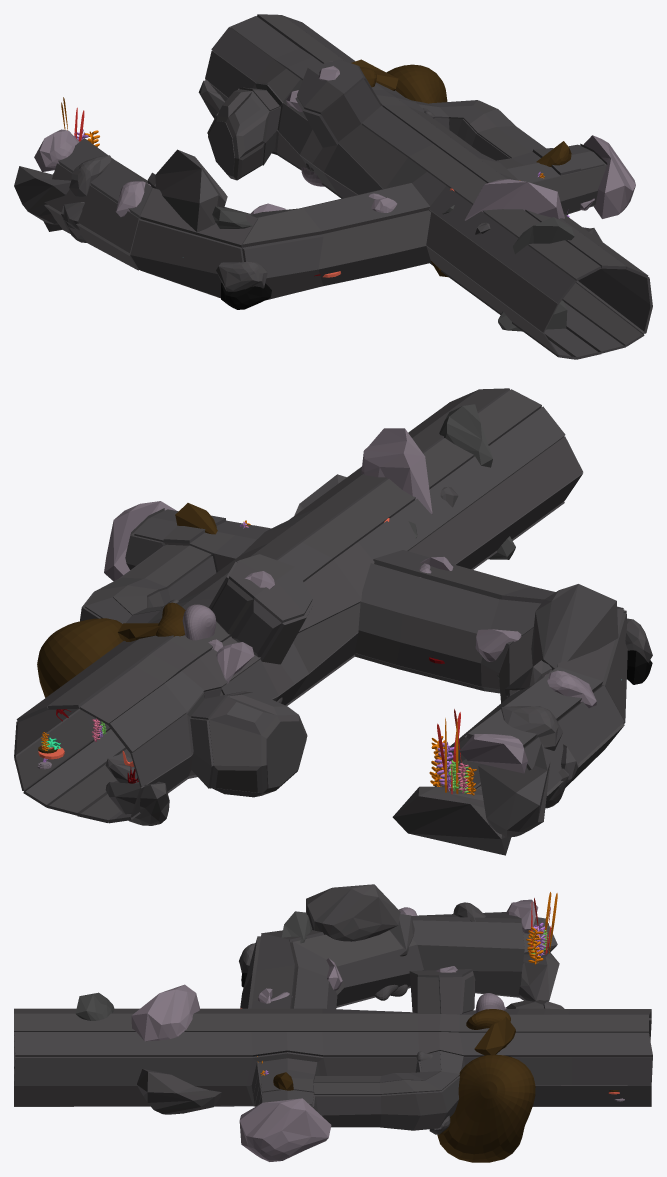
File: GRUTAS (2).fbx
3 views of the same model, one above another, from view 1: azimuth 30°, elevation 25°; view 2: azimuth 150°, elevation 25°; view 3: azimuth 270°, elevation 25° (orthographic). The views are drawn at different scales.
Visible parts, largest first — view 1: Cylinder, Icosphere.053, Icosphere.010, Icosphere.052, Icosphere.051, Sphere.014, Icosphere.055, Icosphere.050, Icosphere.012, Icosphere.035, Icosphere.054, Icosphere.037 (+4 smaller); view 2: Cylinder, Icosphere.053, Icosphere.049, Icosphere.051, Sphere.014, Icosphere.010, Icosphere.015, Icosphere.050, Icosphere.052, Icosphere.012, Icosphere.035, Icosphere.037 (+7 smaller); view 3: Cylinder, Sphere.014, Icosphere.052, Icosphere.053, Icosphere.010, Icosphere.011, Icosphere.049, Icosphere.004, Icosphere.012, Icosphere.027, Sphere.007, Icosphere.050 (+2 smaller).
Part boxes in pixels (<box>): Cylinder: <box>44,14,652,359</box>; Icosphere.053: <box>155,149,227,231</box>; Icosphere.010: <box>465,179,564,220</box>; Icosphere.052: <box>583,135,635,218</box>; Icosphere.051: <box>14,166,70,224</box>; Sphere.014: <box>386,64,447,103</box>; Icosphere.055: <box>216,261,267,291</box>; Icosphere.050: <box>34,129,79,171</box>; Icosphere.012: <box>513,217,574,254</box>; Icosphere.035: <box>69,155,111,196</box>; Icosphere.054: <box>221,283,271,309</box>; Icosphere.037: <box>115,181,150,216</box>; Cylinder: <box>14,388,627,823</box>; Icosphere.053: <box>531,584,618,669</box>; Icosphere.049: <box>392,786,511,855</box>; Icosphere.051: <box>478,743,550,837</box>; Sphere.014: <box>37,618,122,697</box>; Icosphere.010: <box>361,428,432,514</box>; Icosphere.015: <box>105,780,169,825</box>; Icosphere.050: <box>459,734,527,773</box>; Icosphere.052: <box>104,501,176,581</box>; Icosphere.012: <box>439,404,492,467</box>; Icosphere.035: <box>500,706,562,750</box>; Icosphere.037: <box>544,670,596,708</box>; Cylinder: <box>14,912,652,1130</box>; Sphere.014: <box>437,1054,535,1162</box>; Icosphere.052: <box>239,1098,331,1161</box>; Icosphere.053: <box>306,884,400,941</box>; Icosphere.010: <box>131,984,199,1041</box>; Icosphere.011: <box>137,1069,221,1114</box>; Icosphere.049: <box>518,950,559,1001</box>; Icosphere.004: <box>474,1016,515,1055</box>; Icosphere.012: <box>75,992,114,1020</box>; Icosphere.027: <box>281,911,312,943</box>; Sphere.007: <box>466,1009,510,1029</box>; Icosphere.050: <box>506,899,538,933</box>.
Bounding box in the file's own units: 47807 × 16716 × 60383.
